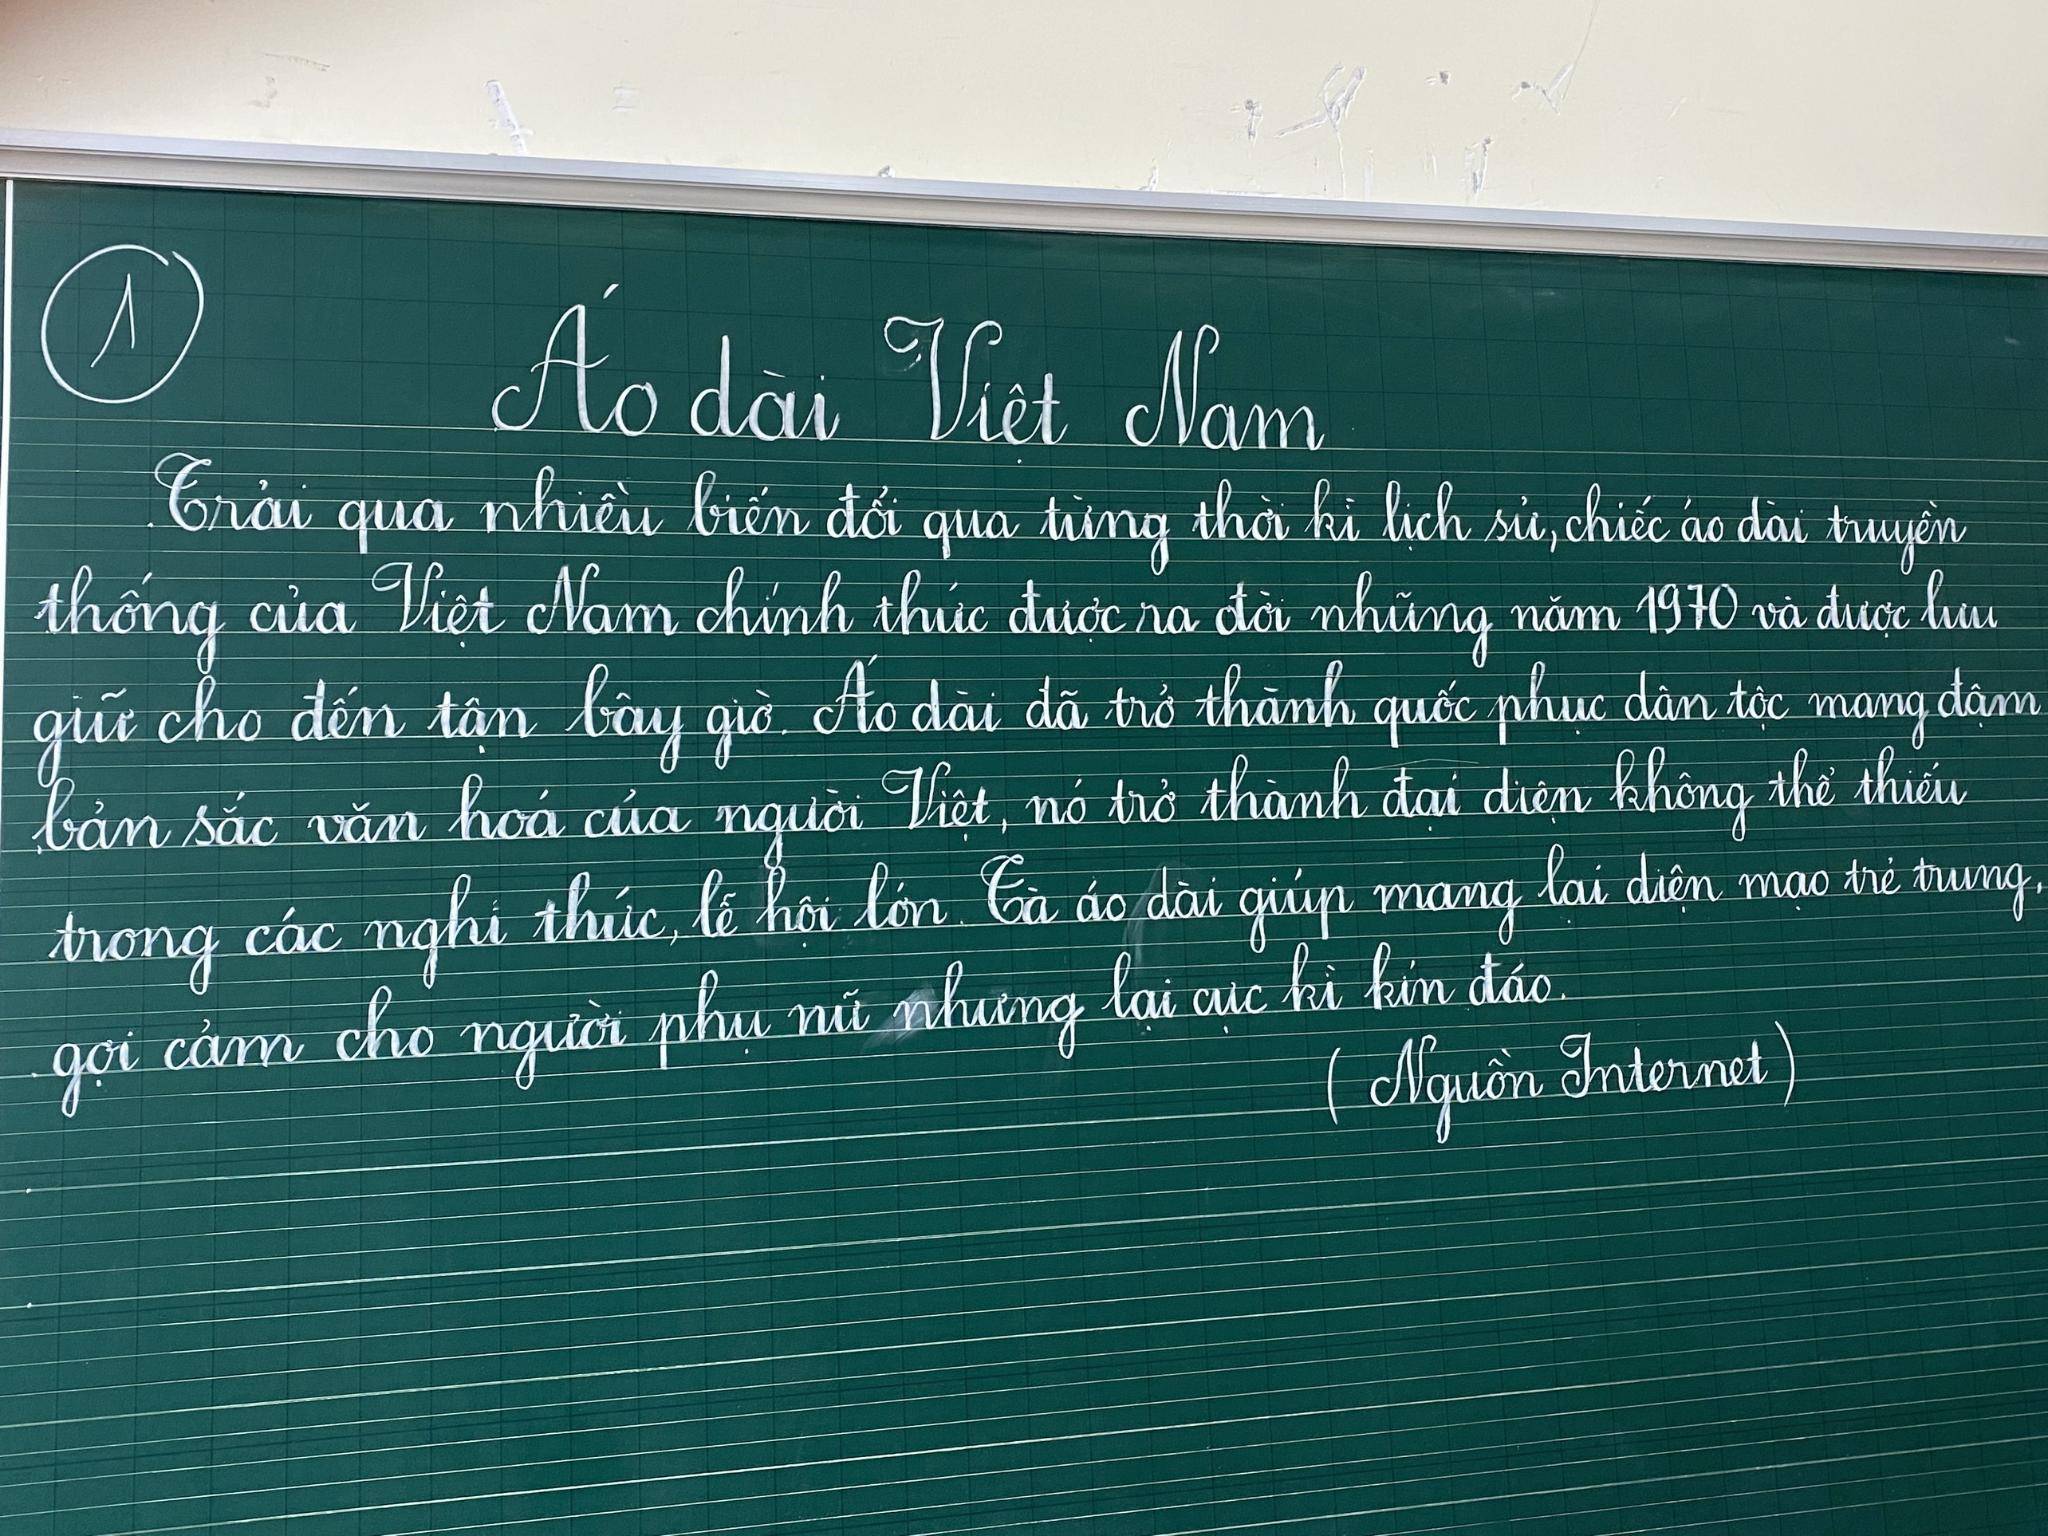text: (42, 839, 2048, 1005), (23, 650, 2048, 795), (45, 936, 1566, 1126), (26, 742, 1977, 876), (150, 447, 1972, 579), (31, 558, 2003, 678), (482, 274, 1332, 463), (1321, 1018, 1804, 1147), (40, 239, 208, 415)
